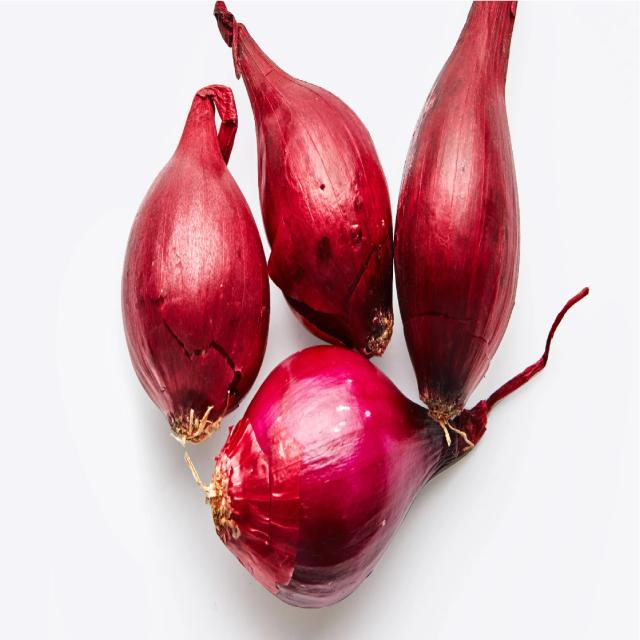organic: (216, 351, 442, 610), (118, 128, 270, 444), (396, 45, 522, 421), (264, 49, 397, 351)
